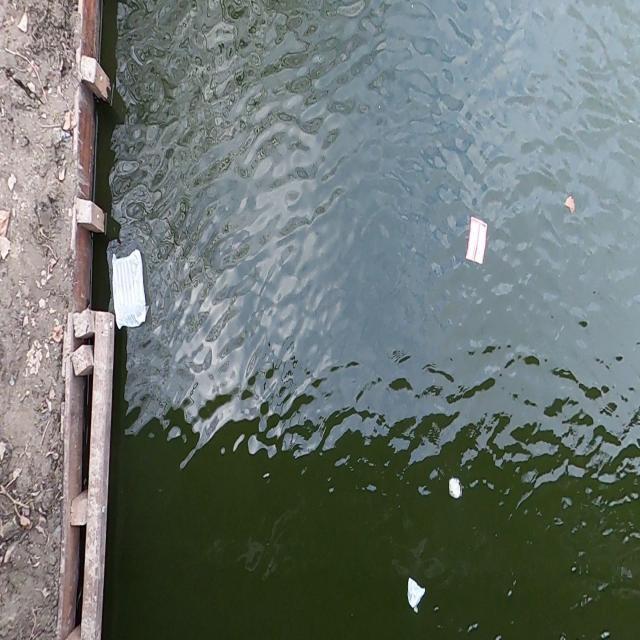Autre plastique: (462, 208, 493, 272)
Sac plastique: (112, 251, 152, 329)
